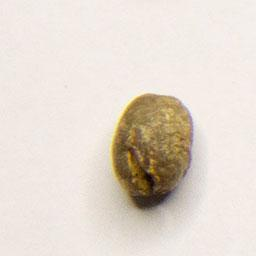peaberry: (108, 88, 197, 205)
